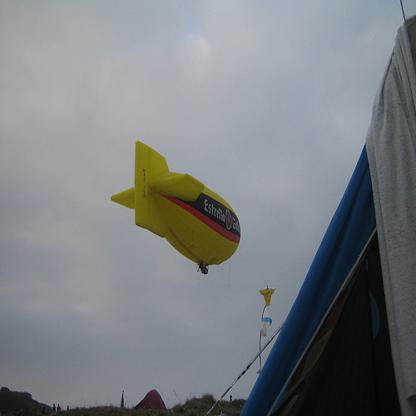Airship: (110, 140, 246, 279)
